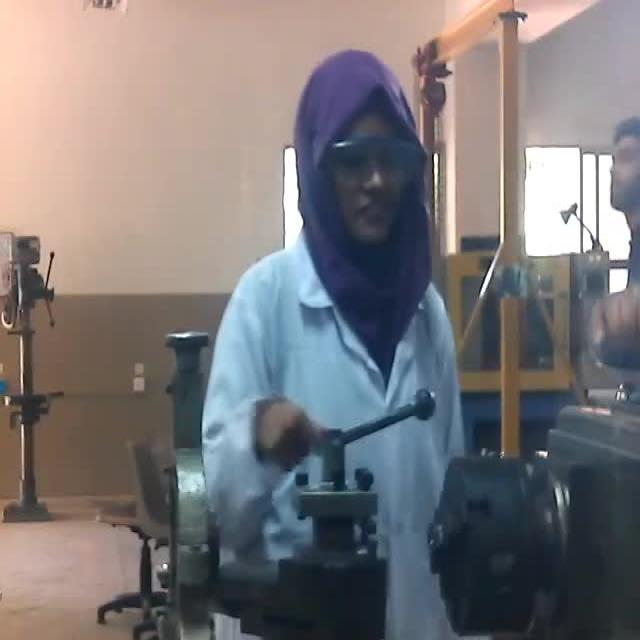googles: (328, 132, 418, 190)
labcoat: (205, 223, 463, 640)
